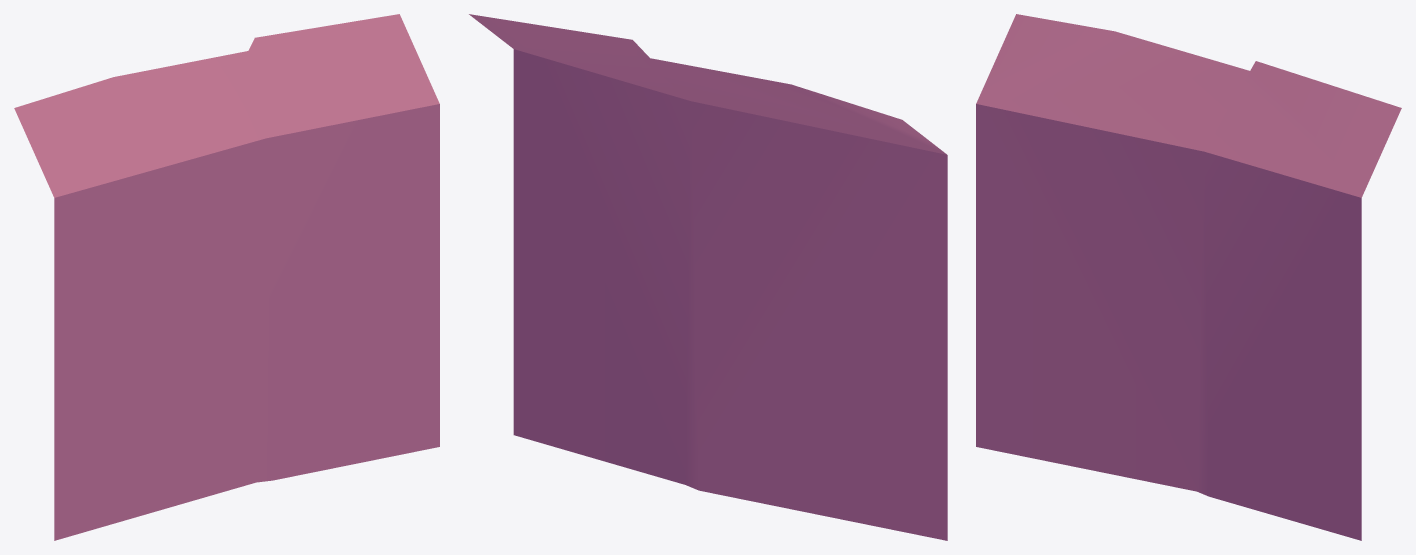
File: Module_Wall_In_2x2_Mesh_v01_Wall.fbx
The picture shows the model from 3 angles, left to right: view 1: azimuth 30°, elevation 25°; view 2: azimuth 150°, elevation 25°; view 3: azimuth 330°, elevation 25°; orthographic projection. The views are drawn at different scales.
Visible parts, largest first — view 1: Module_Wall_In_2x2_Mesh_v01_Wall; view 2: Module_Wall_In_2x2_Mesh_v01_Wall; view 3: Module_Wall_In_2x2_Mesh_v01_Wall.
Part boxes in pixels (<box>): Module_Wall_In_2x2_Mesh_v01_Wall: <box>14,14,439,540</box>; Module_Wall_In_2x2_Mesh_v01_Wall: <box>469,14,947,540</box>; Module_Wall_In_2x2_Mesh_v01_Wall: <box>976,14,1401,540</box>.
Size of the model in its own units: 400 by 412 by 72.63.
